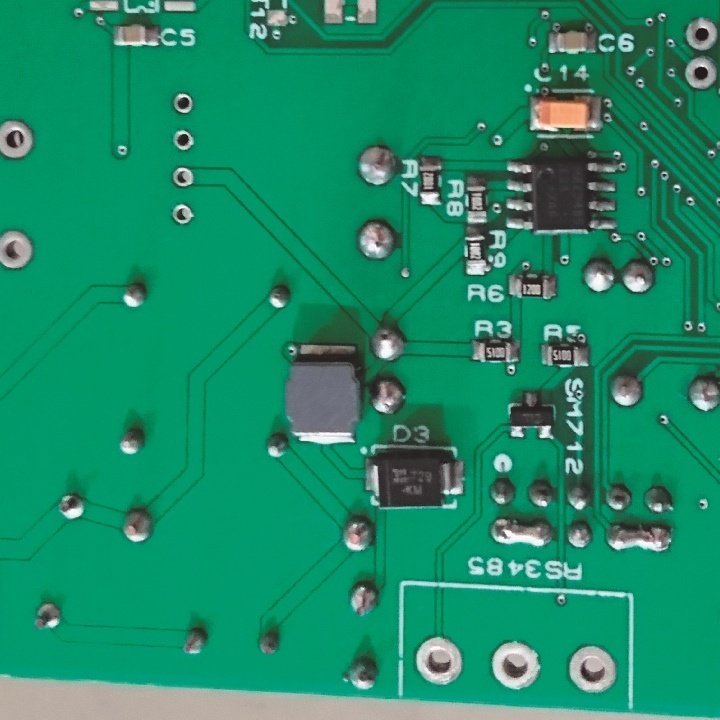F: (487, 638, 545, 692), (412, 632, 466, 687), (564, 641, 617, 695), (1, 227, 39, 273), (1, 119, 39, 164), (680, 52, 720, 93), (681, 16, 720, 53), (169, 89, 198, 118), (169, 200, 197, 229), (170, 161, 196, 190), (170, 126, 196, 152)
P: (603, 518, 674, 558), (488, 512, 556, 552)
